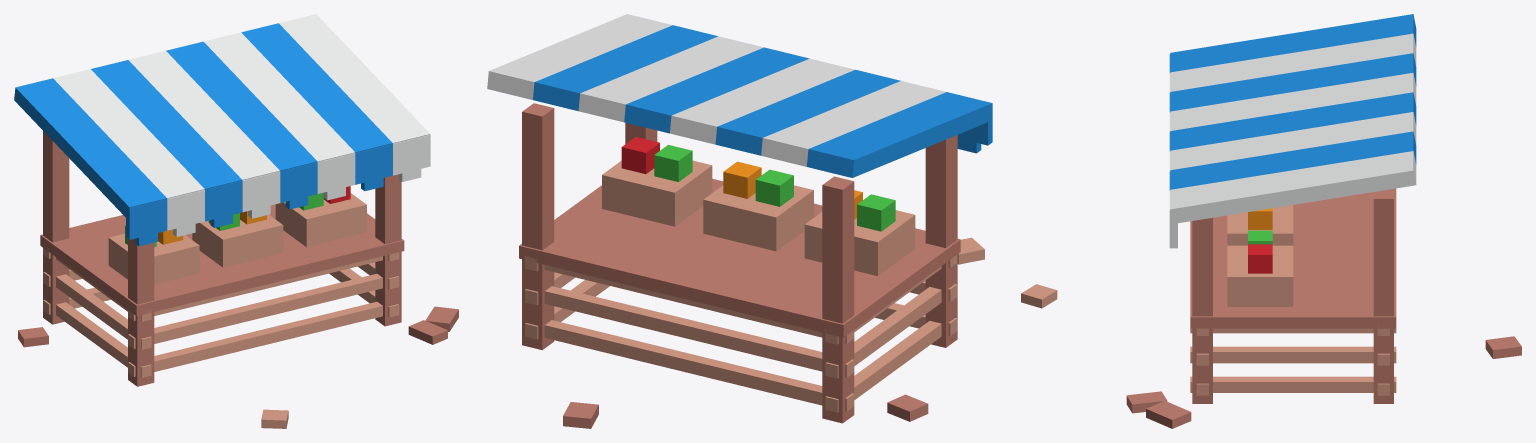
The model's file is MarketStallBlue.fbx.
The picture shows the model from 3 angles, left to right: view 1: azimuth 30°, elevation 25°; view 2: azimuth 150°, elevation 25°; view 3: azimuth 270°, elevation 25°; orthographic projection. The views are drawn at different scales.
Parts seen in each view (by area): view 1: StripeBlue, White.003, WoodLight.006, Wood.009, LeafGreen.009, Pumpkin; view 2: Wood.009, WoodLight.006, StripeBlue, White.003, LeafGreen.009, Pumpkin, Apple.004; view 3: Wood.009, White.003, StripeBlue, WoodLight.006, Apple.004, Pumpkin.
Part boxes in pixels (x1,y1,x2,y2): StripeBlue: [14, 23, 392, 246]; White.003: [53, 14, 430, 236]; WoodLight.006: [43, 193, 399, 428]; Wood.009: [18, 131, 458, 386]; LeafGreen.009: [125, 193, 323, 246]; Pumpkin: [158, 211, 266, 244]; Wood.009: [519, 103, 960, 428]; WoodLight.006: [525, 160, 984, 412]; StripeBlue: [533, 25, 992, 177]; White.003: [487, 14, 945, 166]; LeafGreen.009: [654, 144, 895, 231]; Pumpkin: [723, 161, 862, 219]; Apple.004: [621, 137, 659, 173]; Wood.009: [1126, 188, 1521, 428]; White.003: [1169, 33, 1416, 248]; StripeBlue: [1169, 14, 1416, 190]; WoodLight.006: [1021, 205, 1396, 395]; Apple.004: [1248, 244, 1272, 273]; Pumpkin: [1248, 208, 1272, 229].
Size of the model in its own units: 10.67 by 6.52 by 12.17.
